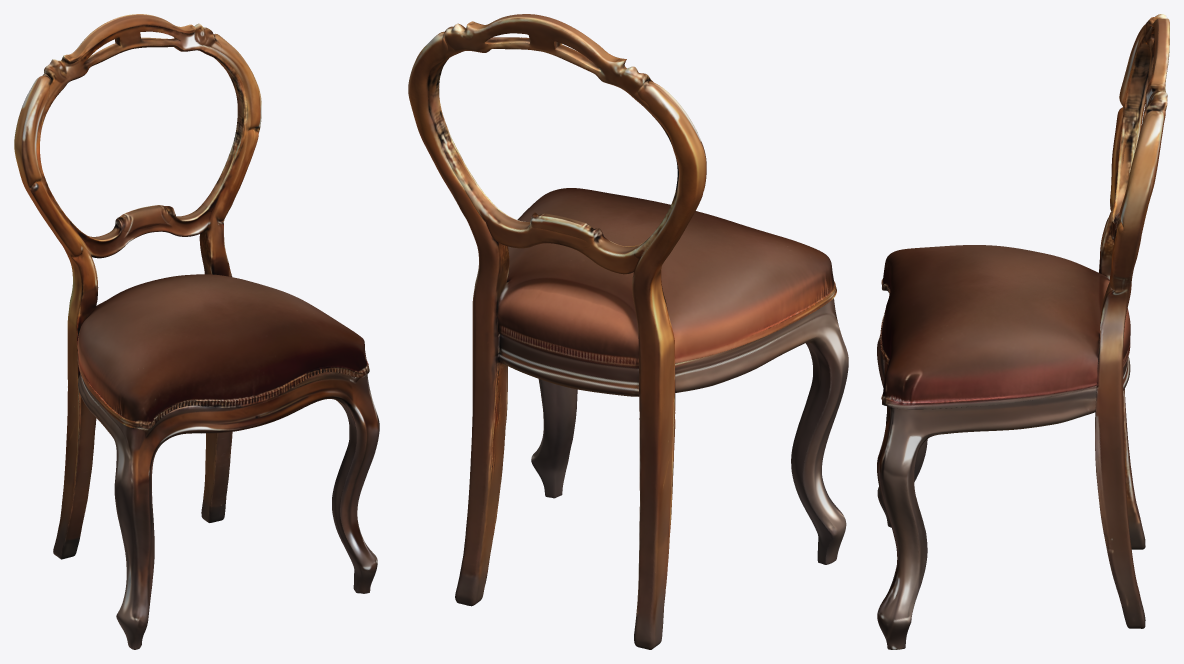
The picture shows the model from 3 angles, left to right: view 1: azimuth 30°, elevation 25°; view 2: azimuth 150°, elevation 25°; view 3: azimuth 270°, elevation 25°; orthographic projection. The views are drawn at different scales.
Parts seen in each view (by area): view 1: root.1, root.0, root.3, root.4, root.2, root.5, root.6; view 2: root.1, root.0, root.3, root.2, root.4, root.5, root.6; view 3: root.1, root.0, root.2, root.4, root.3.
Boxes of the visible parts, x1,y1,x2,y2 form: root.1: [77, 274, 369, 430]; root.0: [78, 372, 379, 649]; root.3: [14, 73, 98, 559]; root.4: [36, 14, 247, 241]; root.2: [199, 33, 261, 522]; root.5: [85, 204, 211, 258]; root.6: [115, 205, 175, 232]; root.1: [497, 188, 836, 366]; root.0: [498, 298, 848, 564]; root.3: [632, 80, 706, 649]; root.2: [408, 31, 509, 606]; root.4: [428, 14, 678, 259]; root.5: [486, 207, 641, 274]; root.6: [530, 212, 602, 247]; root.1: [880, 245, 1130, 409]; root.0: [877, 334, 1130, 649]; root.2: [1095, 109, 1165, 628]; root.4: [1115, 14, 1169, 199]; root.3: [1099, 25, 1148, 549].
Size of the model in its own units: 0.4927 by 0.93 by 0.4413.
7 materials, 7 textured.
